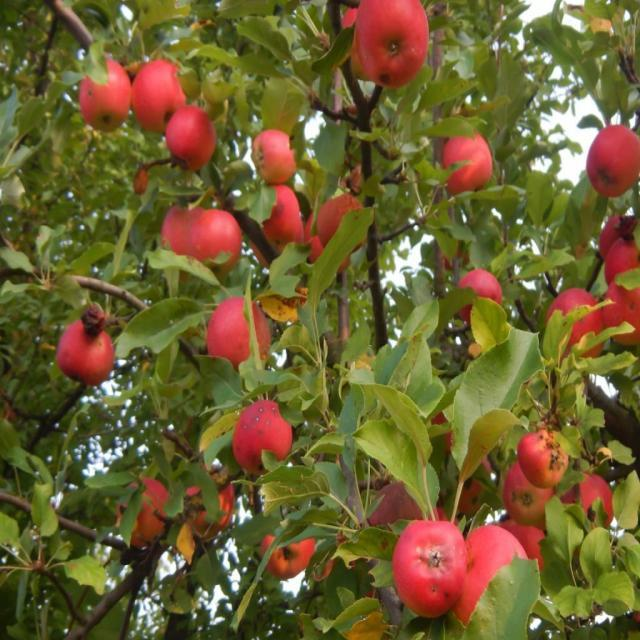Red Apple: (457, 527, 532, 626), (399, 513, 461, 609), (212, 302, 268, 372), (239, 402, 292, 465), (591, 132, 640, 198), (62, 322, 113, 384), (123, 479, 173, 538), (521, 425, 567, 486), (551, 294, 601, 349), (197, 210, 247, 264), (85, 63, 129, 122), (136, 66, 179, 125), (193, 463, 234, 524), (266, 525, 316, 575), (448, 135, 493, 189), (567, 474, 610, 529), (262, 186, 302, 245), (170, 108, 213, 161), (508, 458, 548, 513), (605, 279, 640, 341), (168, 203, 202, 258), (260, 131, 296, 182), (467, 271, 497, 321), (326, 200, 361, 241), (301, 217, 336, 255), (610, 239, 640, 280), (605, 217, 633, 253)
